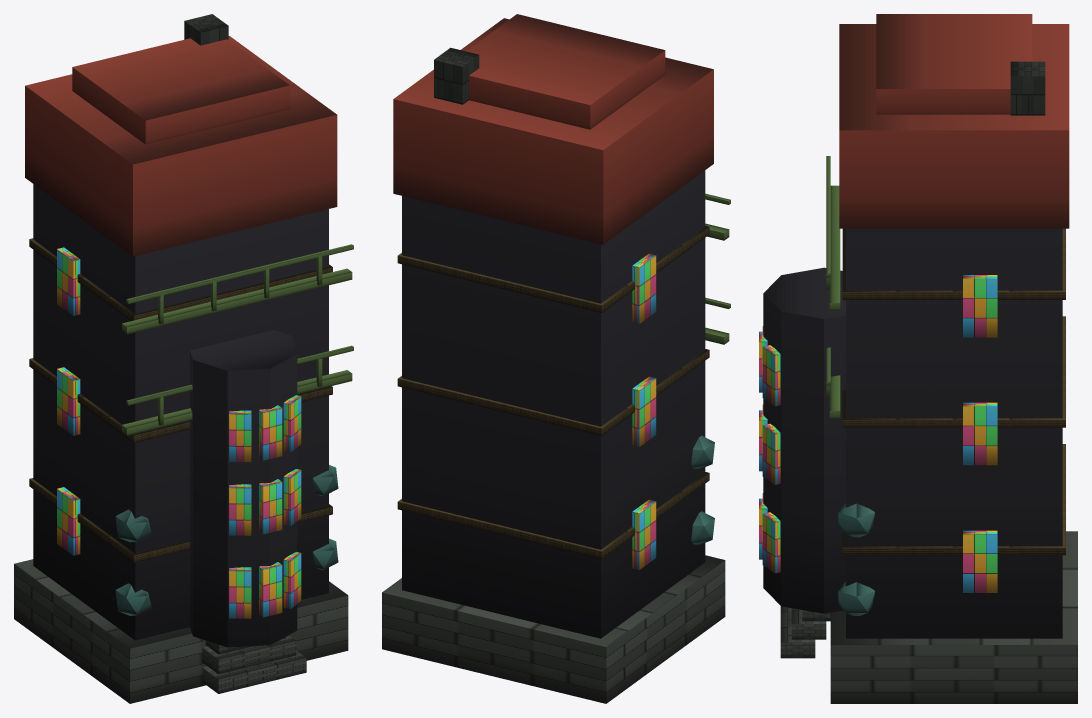
The model's file is townhouse.obj.
The picture shows the model from 3 angles, left to right: view 1: azimuth 30°, elevation 25°; view 2: azimuth 150°, elevation 25°; view 3: azimuth 270°, elevation 25°; orthographic projection. The views are drawn at different scales.
Visible parts, largest first — view 1: townhouse; view 2: townhouse; view 3: townhouse.
Part boxes in pixels (x1,y1,x2,y2): townhouse: (14, 14, 353, 703); townhouse: (382, 14, 730, 703); townhouse: (759, 14, 1077, 703).
Size of the model in its own units: 1.28 by 3.1 by 1.47.
Materials: 1 (1 with a texture image).
